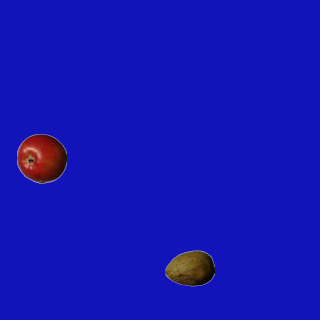Apple Braeburn: (16, 133, 66, 183)
Papaya: (164, 243, 214, 293)
